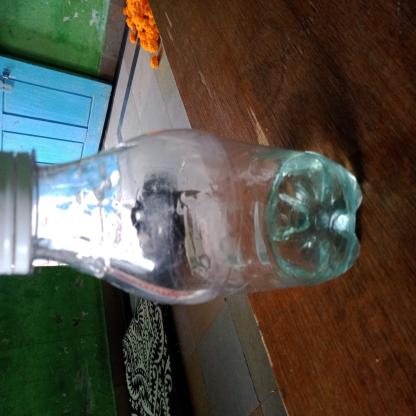bottle: (81, 1, 219, 416)
